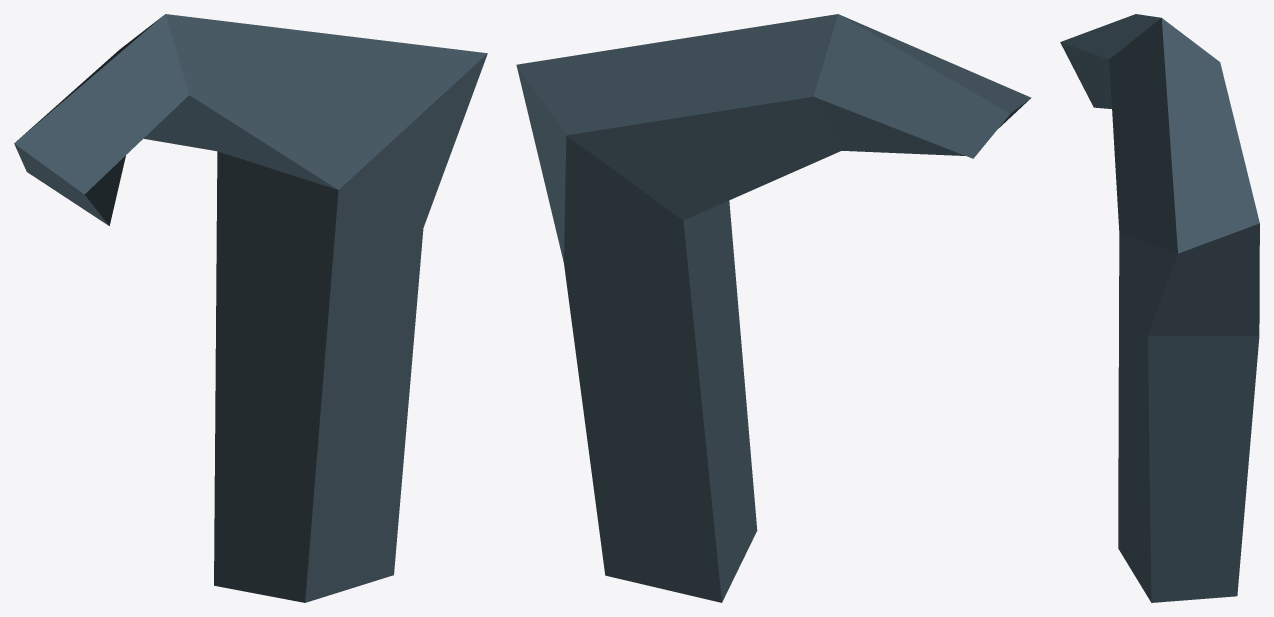
The model's file is lowercase-e.glb.
3 views of the same model, side by side, from view 1: azimuth 30°, elevation 25°; view 2: azimuth 150°, elevation 25°; view 3: azimuth 270°, elevation 25° (orthographic). The views are drawn at different scales.
Bounding box in the file's own units: 0.2165 × 0.2568 × 0.0922.
